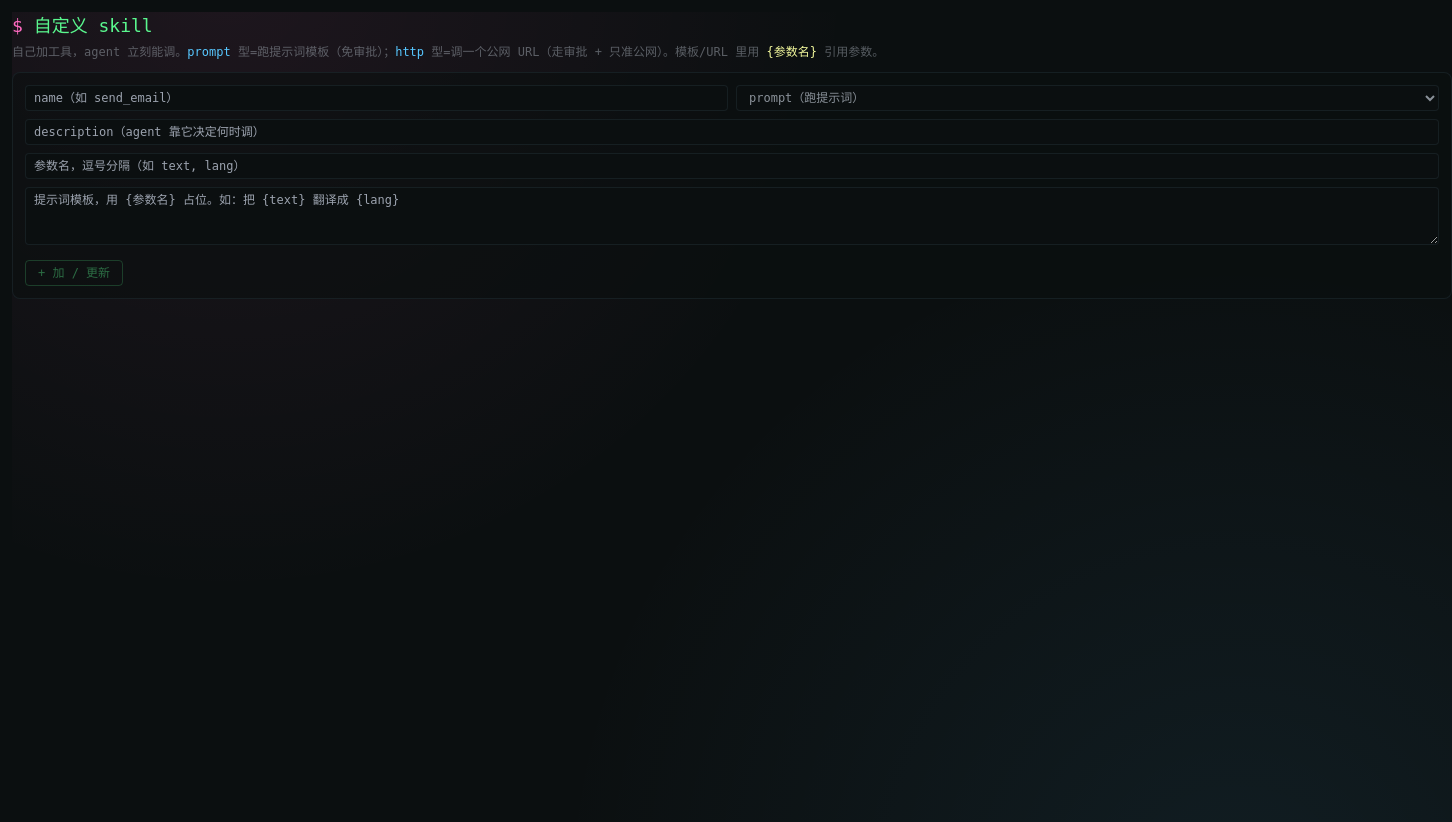
Test case: CustomSkills 自定义技能 › 切到 http 型时出现 URL + 方法字段
Select "http（调 URL）" in the dropdown: (1088, 98) x1=736 y1=85 x2=1439 y2=111
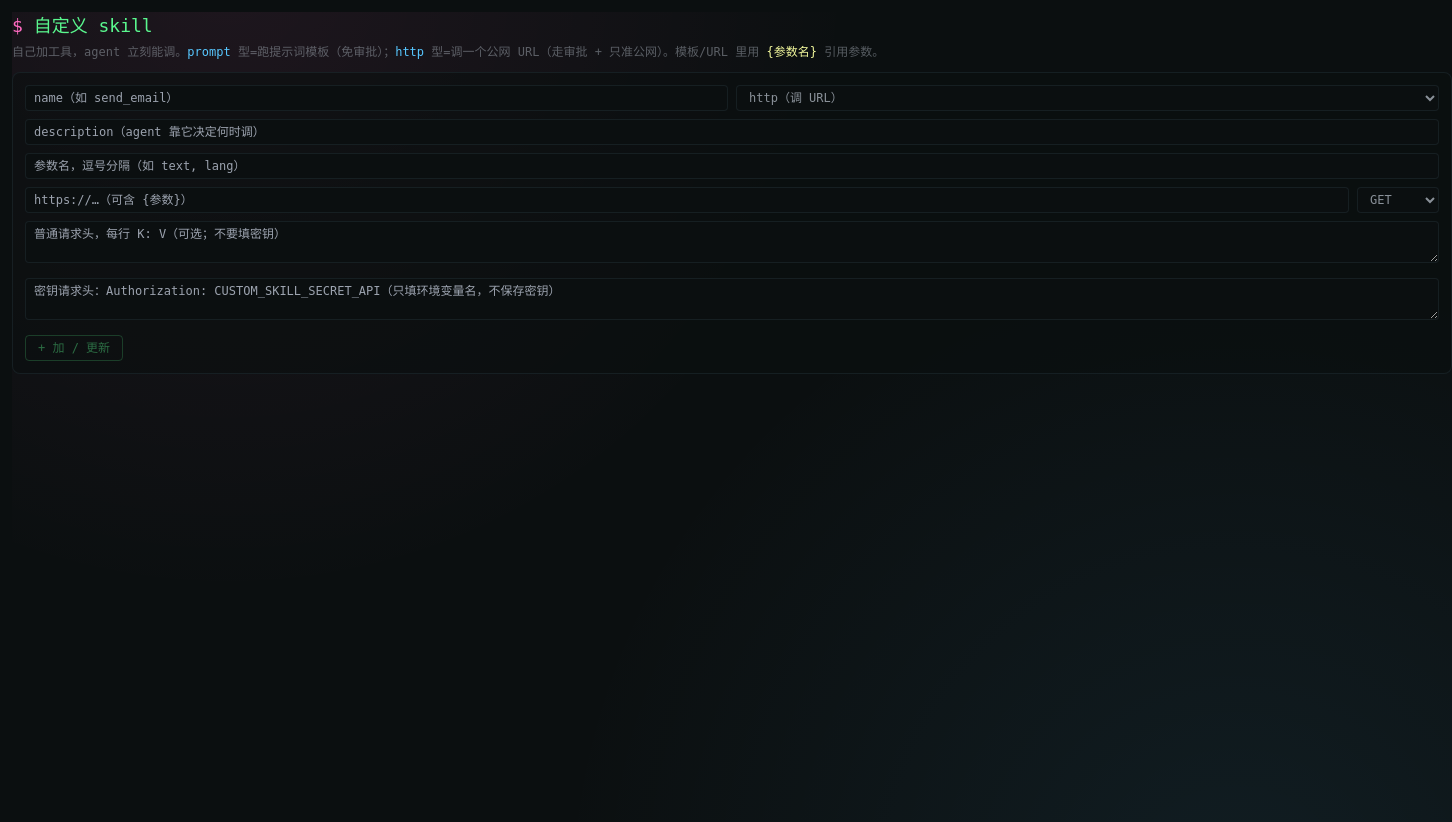
Result: the field with placeholder "https://…（可含 {参数}）" is shown at x1=25 y1=187 x2=1349 y2=213
